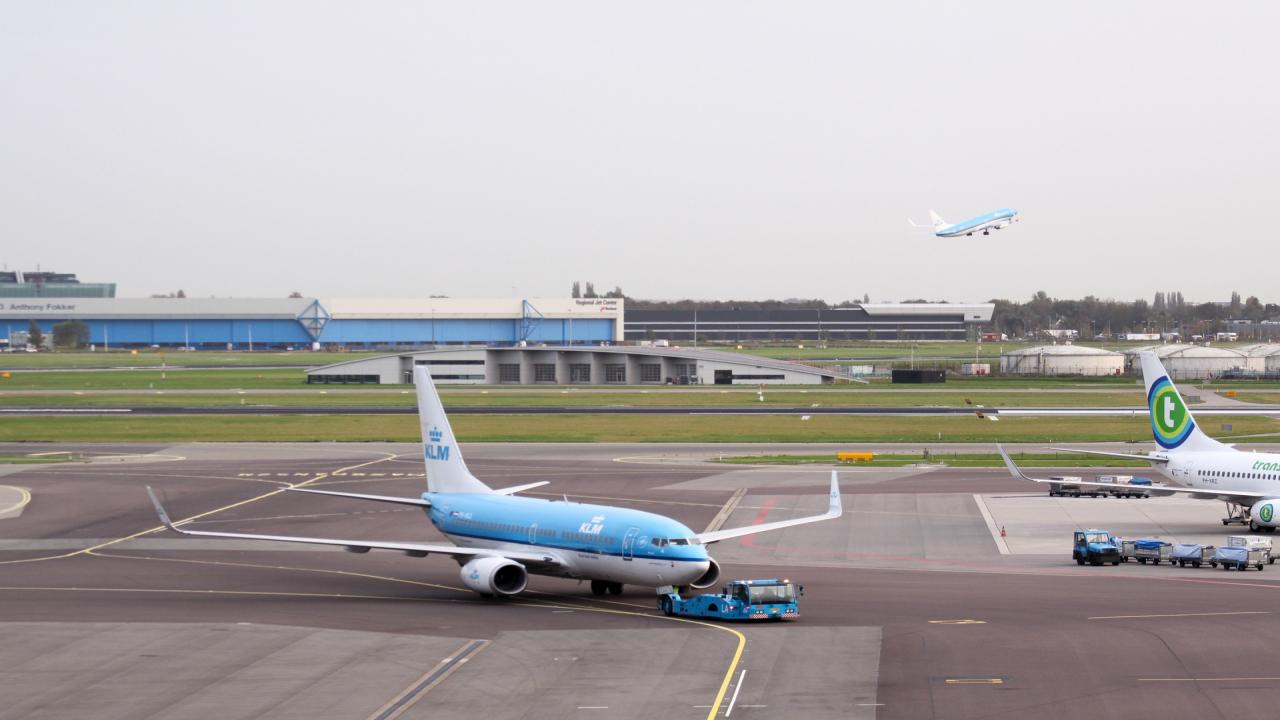Airplane: (125, 349, 882, 614), (898, 198, 1032, 248)
